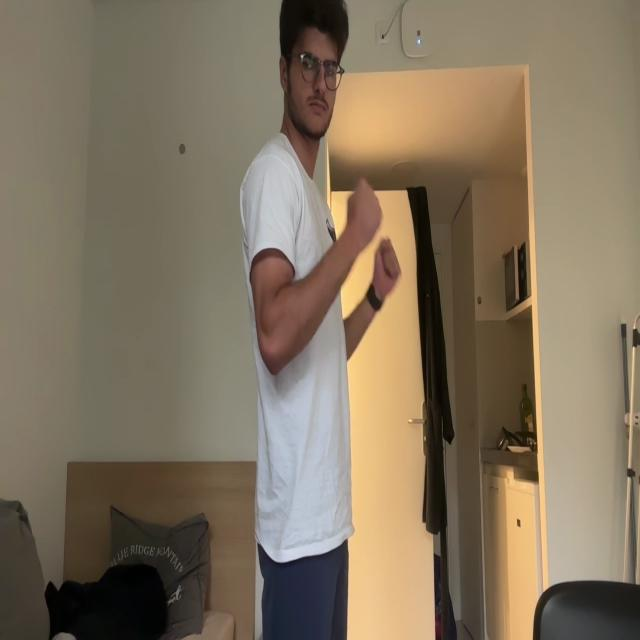elbow: (257, 288, 290, 378)
hand: (346, 178, 382, 245), (368, 236, 402, 302)
shoulder: (246, 151, 297, 246)
